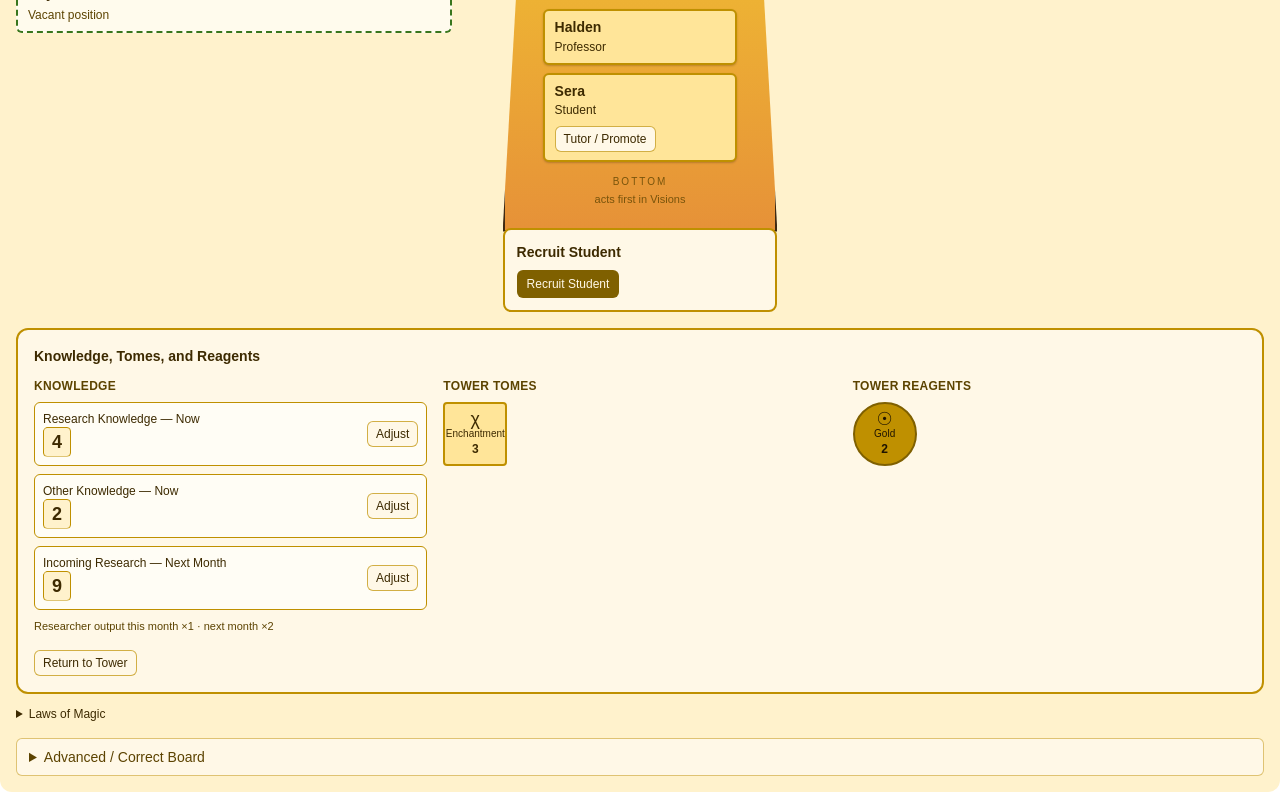
it: Sorcerer surface presentation › rerenders empty Innovations into a Revise form without a hook-order failure
Later steps or results of the test are not shown.
(page scrolled)
Check: the element showing "Advanced / Correct Board" is shown, box top-left (16, 738), bottom-right (1264, 776)
What coordinates should you click on to do the following:
click the heading "Advanced / Correct Board"
I would click on:
 (124, 757)
Its box is top-left (44, 749), bottom-right (205, 765).
(page scrolled)
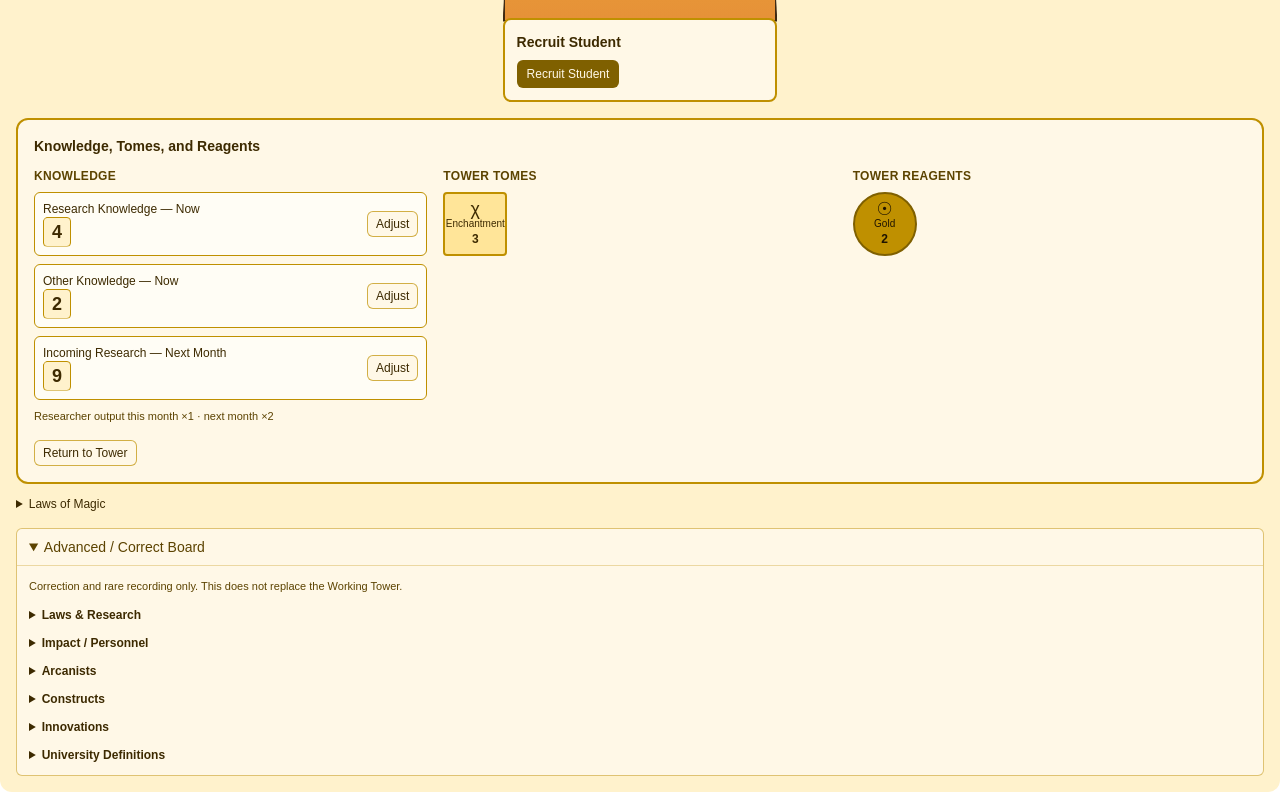
Check: the heading "Innovations" is shown, box top-left (42, 720), bottom-right (109, 734)
